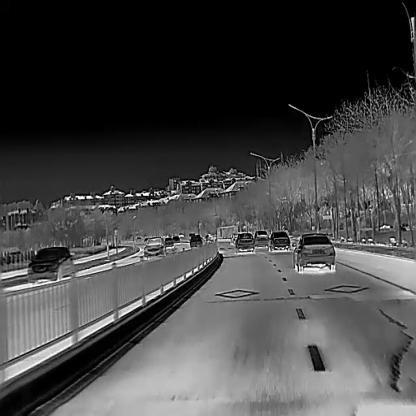car: (26, 245, 74, 283), (293, 233, 335, 271), (143, 236, 166, 258), (266, 231, 290, 251), (234, 232, 254, 253), (254, 229, 269, 249), (188, 234, 203, 247), (165, 236, 174, 247), (173, 235, 179, 242)
